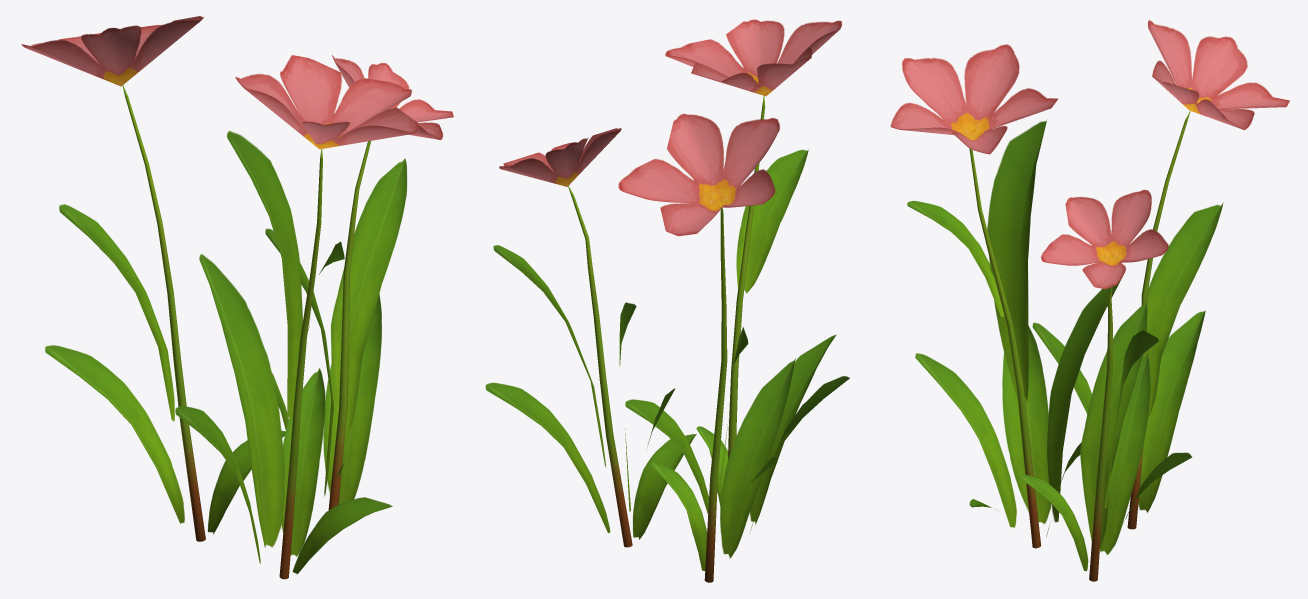
The model's file is red_flowers_fixed.glb.
3 renders of one model, left to right at view 1: azimuth 30°, elevation 25°; view 2: azimuth 150°, elevation 25°; view 3: azimuth 270°, elevation 25°, orthographic. The views are drawn at different scales.
Parts seen in each view (by area): view 1: Flower_3_Group; view 2: Flower_3_Group; view 3: Flower_3_Group.
Part boxes in pixels (<box>): Flower_3_Group: <box>21,16,453,579</box>; Flower_3_Group: <box>485,19,849,582</box>; Flower_3_Group: <box>890,20,1289,581</box>.
Size of the model in its own units: 1.49 by 2.05 by 1.59.
2 materials, 2 textured.
